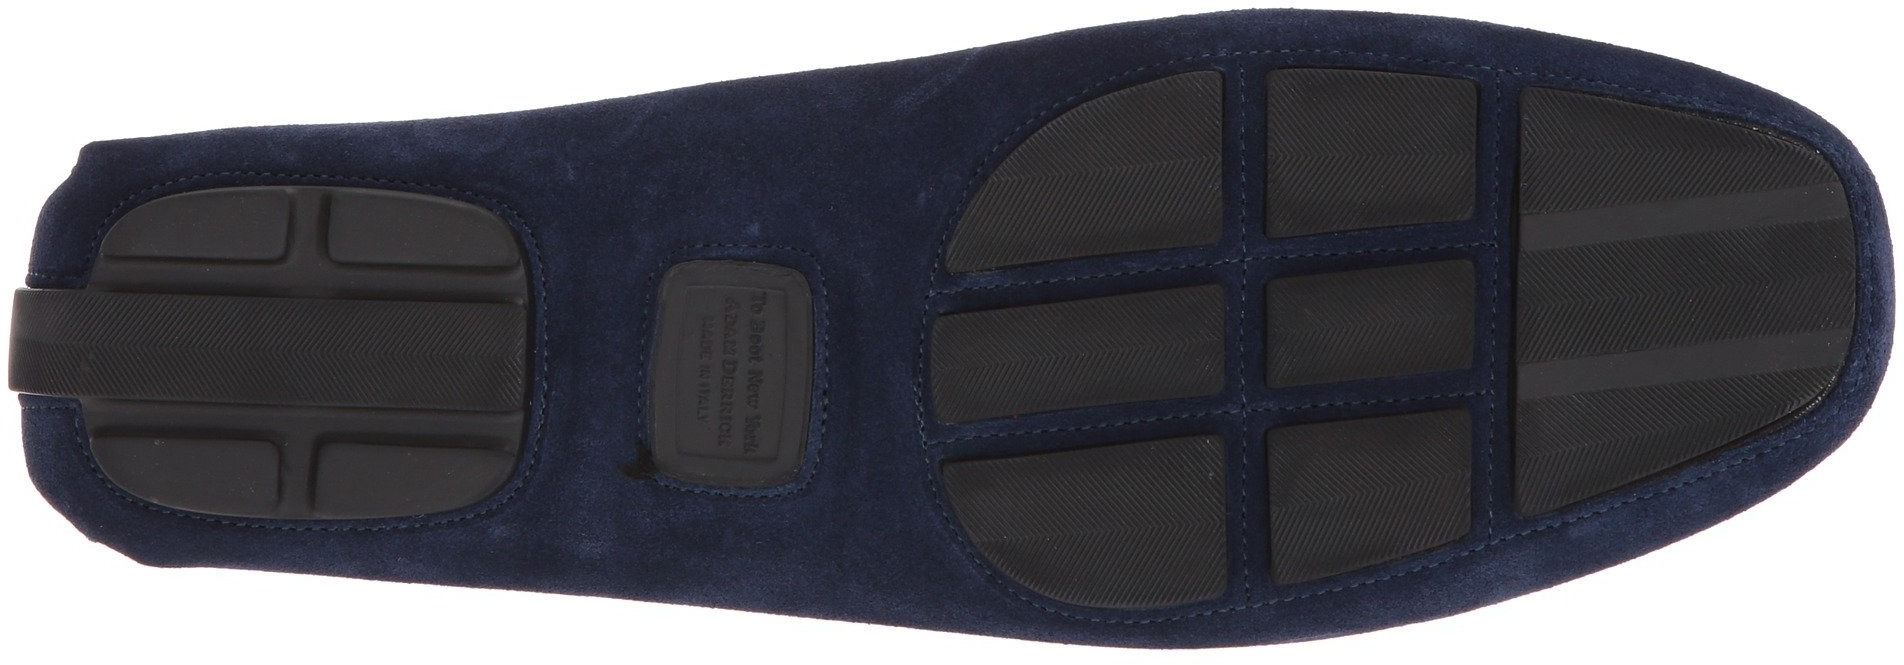other: (1548, 149, 1810, 410), (1065, 108, 1208, 250), (1061, 453, 1203, 589), (1035, 297, 1154, 407), (229, 305, 338, 404), (350, 311, 459, 407), (95, 301, 192, 397)
quad: (584, 231, 884, 525), (1249, 404, 1486, 623), (1249, 49, 1494, 260), (1290, 258, 1447, 403), (310, 160, 457, 288), (160, 421, 291, 538)
